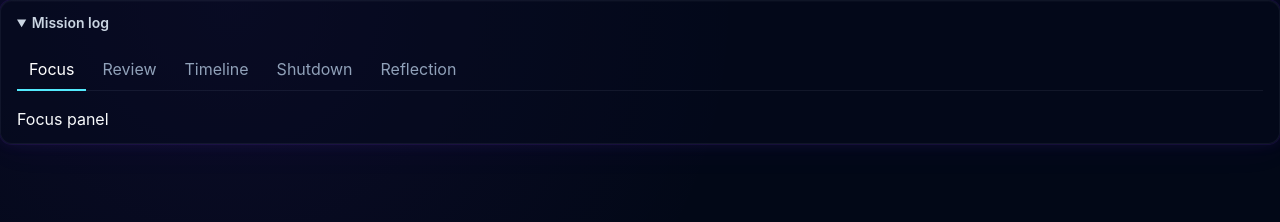
Test: MissionLog › shows the Focus tab first and switches tabs
expect the text "Focus panel" is shown: met, box [17,109,108,129]
expect the text "Shutdown panel" is not shown: met
Click the tab "Shutdown".
click(315, 70)  # box [265,49,364,91]
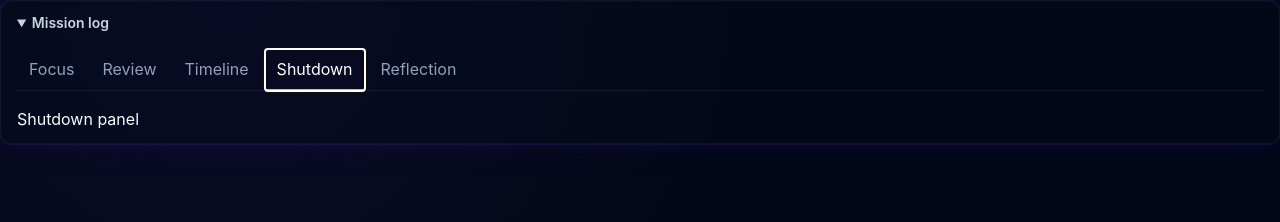
expect the text "Shutdown panel" is shown: met, box [17,109,139,129]
expect the text "Focus panel" is gone: met
